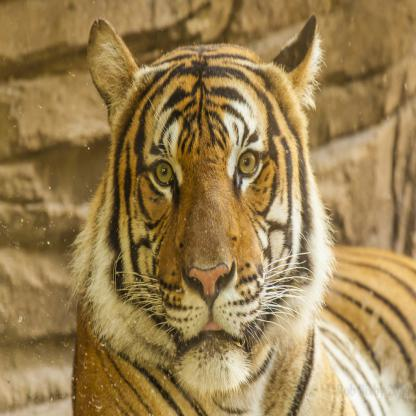tiger: (78, 12, 329, 377)
